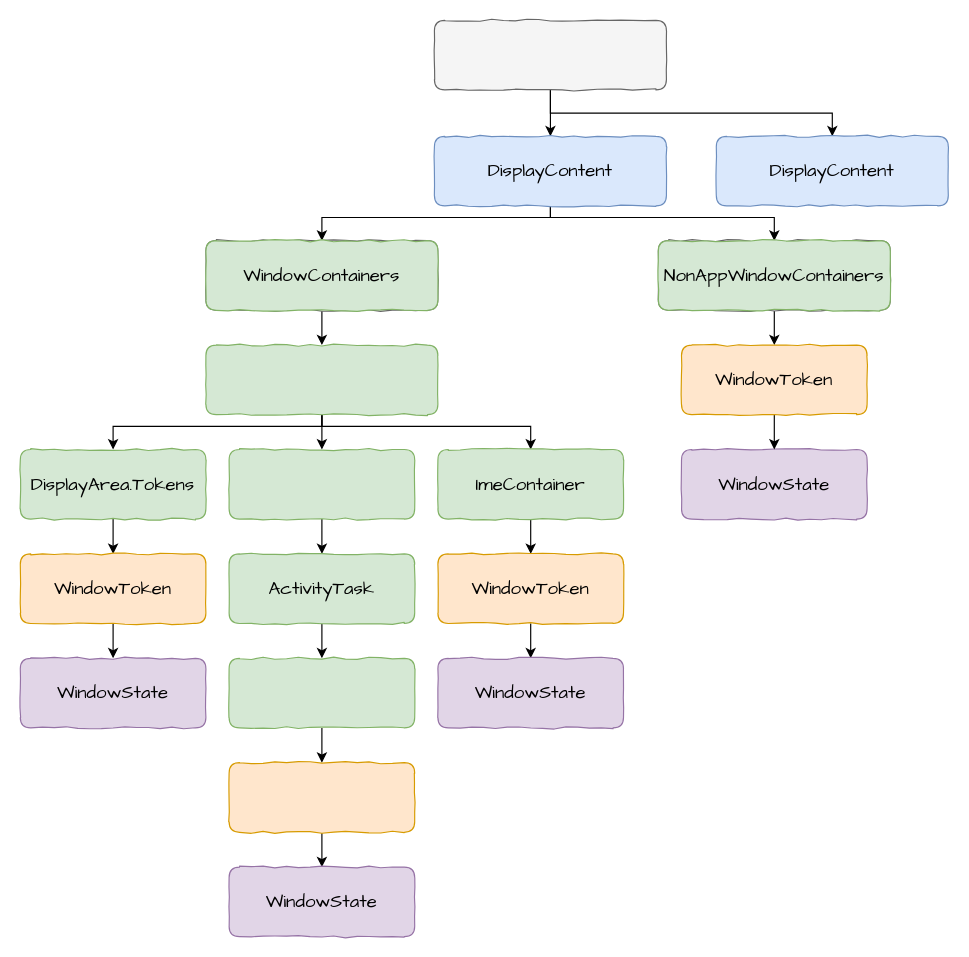
The diagram is 969 pixels wide and 957 high, and some of its shapes have lost their labels. The shapes that lost their labels are listed below. From the top down, each one's centre as x and y in pixels, then its label:
At (x=549, y=54): "RootWindowContainer".
At (x=321, y=379): "DisplayArea.Root".
At (x=321, y=483): "TaskDisplayArea".
At (x=321, y=692): "Task".
At (x=321, y=797): "ActivityRecord".
